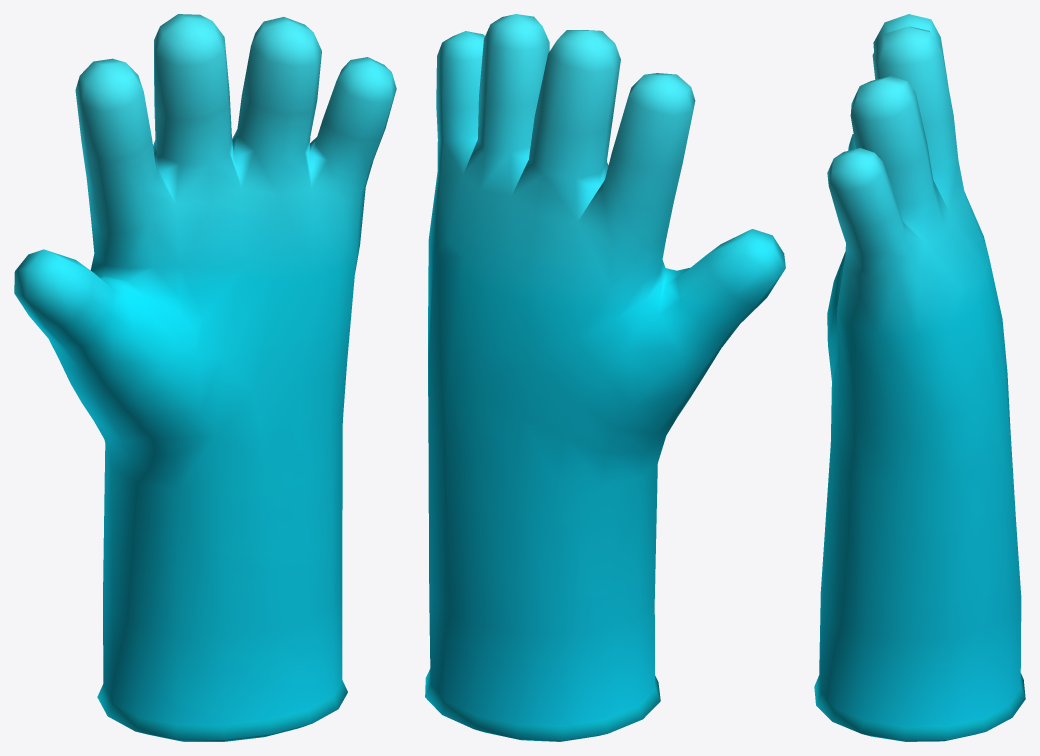
Rendered from Gloves.FBX.
3 renders of one model, left to right at view 1: azimuth 30°, elevation 25°; view 2: azimuth 150°, elevation 25°; view 3: azimuth 270°, elevation 25°, orthographic. The views are drawn at different scales.
Parts seen in each view (by area): view 1: Glove; view 2: Glove; view 3: Glove.
Boxes of the visible parts, <box> form: Glove: <box>14,14,396,741</box>; Glove: <box>425,14,785,741</box>; Glove: <box>814,14,1025,741</box>.
Bounding box in the file's own units: 0.0847 × 0.1572 × 0.0459.
